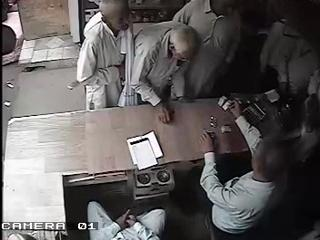Normal: (199, 96, 301, 240), (118, 21, 202, 124), (171, 0, 243, 101), (87, 199, 166, 240)
shoplifting: (67, 1, 133, 110)
